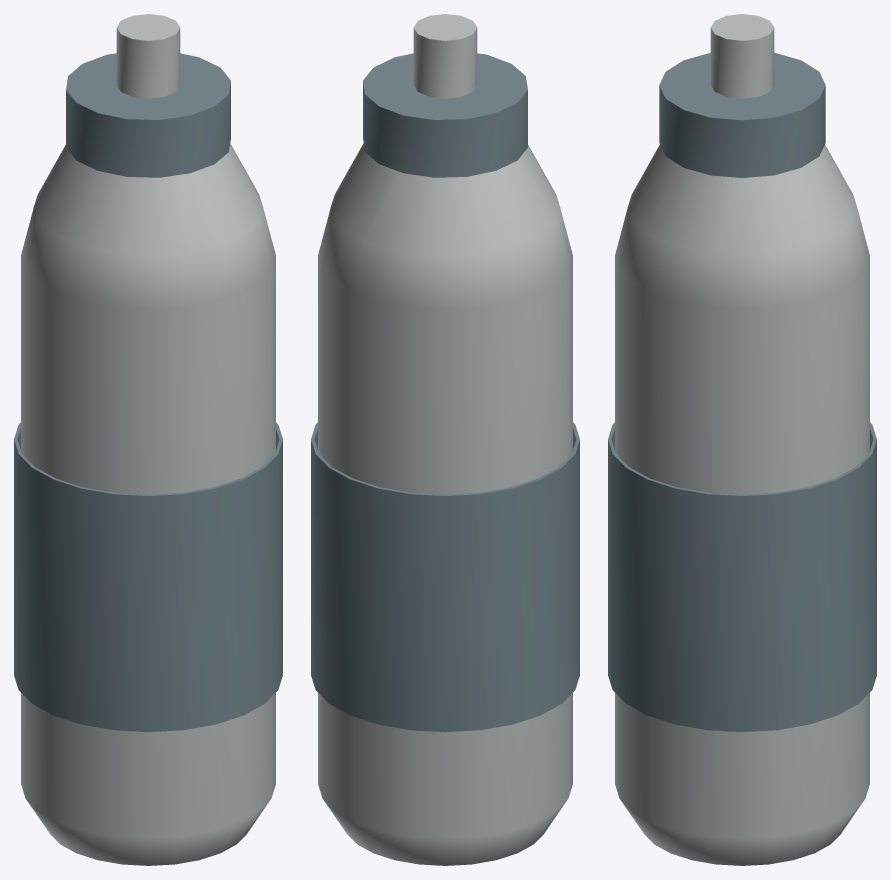
The model's file is sports-bottle.glb.
3 renders of one model, left to right at view 1: azimuth 30°, elevation 25°; view 2: azimuth 150°, elevation 25°; view 3: azimuth 270°, elevation 25°, orthographic.
Parts seen in each view (by area): view 1: bottle_body, raised_label, closure, pull_spout; view 2: bottle_body, raised_label, closure, pull_spout; view 3: bottle_body, raised_label, closure, pull_spout.
Boxes of the visible parts, left/top/right/bottom form: bottle_body: left=21, top=143, right=275, bottom=865; raised_label: left=14, top=422, right=282, bottom=732; closure: left=66, top=53, right=230, bottom=177; pull_spout: left=116, top=14, right=180, bottom=98; bottle_body: left=318, top=143, right=572, bottom=865; raised_label: left=311, top=422, right=579, bottom=732; closure: left=363, top=53, right=527, bottom=177; pull_spout: left=413, top=14, right=477, bottom=98; bottle_body: left=615, top=145, right=869, bottom=865; raised_label: left=608, top=422, right=876, bottom=732; closure: left=659, top=52, right=825, bottom=177; pull_spout: left=710, top=14, right=774, bottom=98.
Size of the model in its own units: 0.076 by 0.248 by 0.076.
